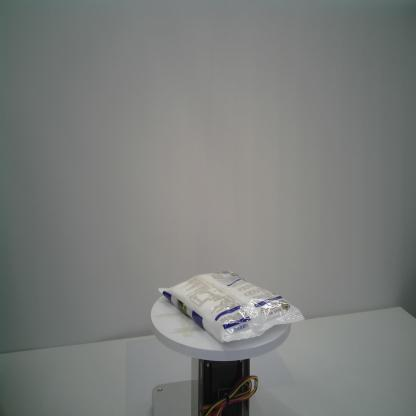Seasoner: (155, 268, 307, 344)
